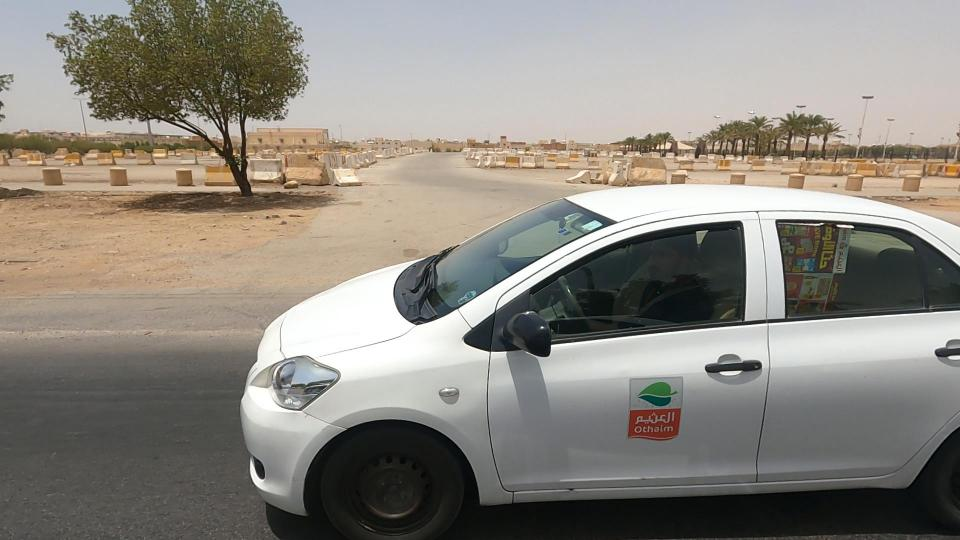CONSTRUCTION_ROAD: (165, 117, 373, 213), (290, 108, 440, 193), (422, 126, 584, 198)
